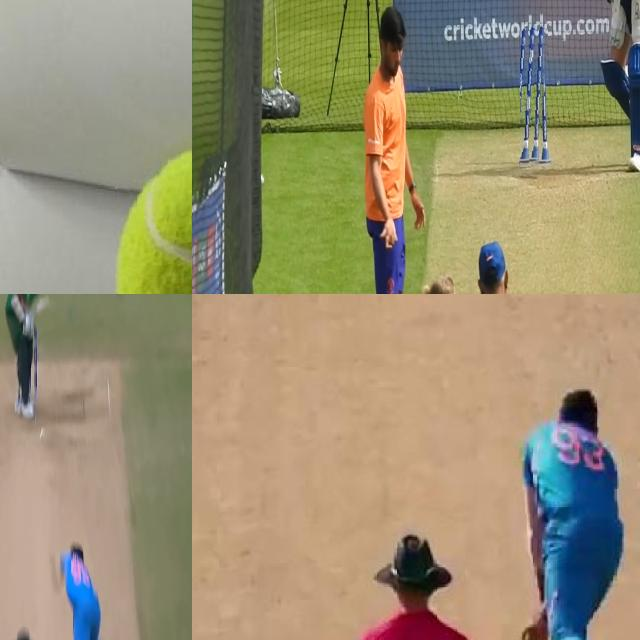Cricket ball: (114, 134, 192, 294), (40, 428, 46, 441)
Stumps: (520, 24, 549, 168)
